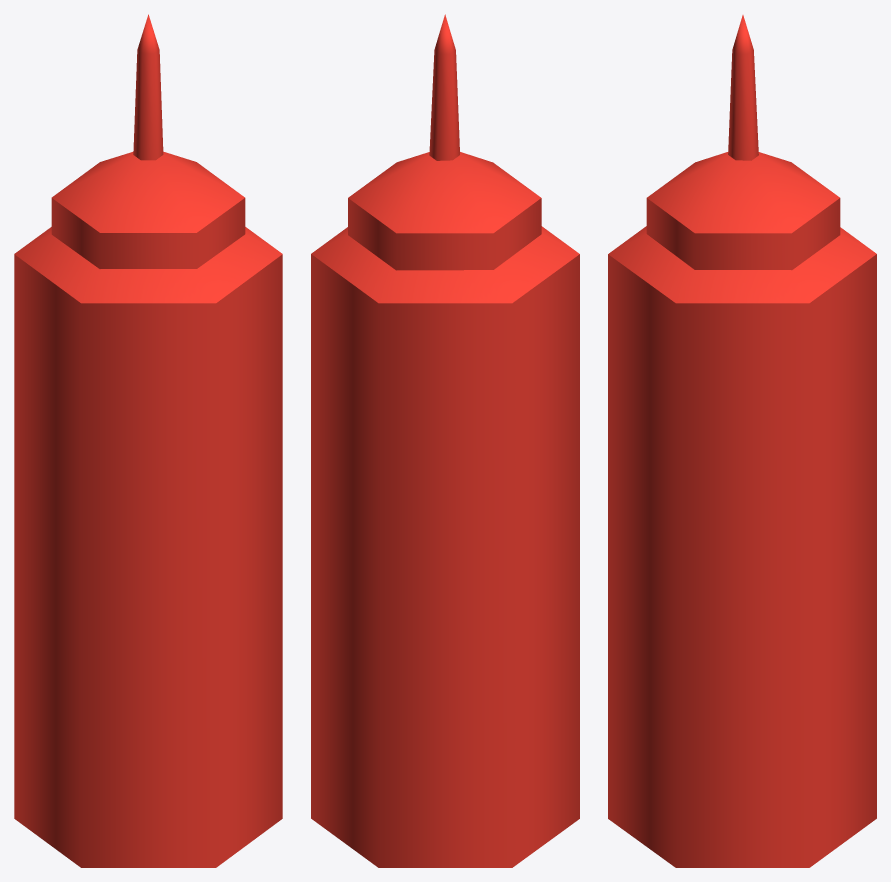
The model's file is Comida4.obj.
The picture shows the model from 3 angles, left to right: view 1: azimuth 30°, elevation 25°; view 2: azimuth 150°, elevation 25°; view 3: azimuth 270°, elevation 25°; orthographic projection.
Parts seen in each view (by area): view 1: ketchup_001; view 2: ketchup_001; view 3: ketchup_001.
Part boxes in pixels (x1,y1,x2,y2): ketchup_001: (14,14,282,867); ketchup_001: (311,14,579,867); ketchup_001: (608,15,876,867).
Bounding box in the file's own units: 0.564 × 2.15 × 0.6506.
1 material, 1 textured.
